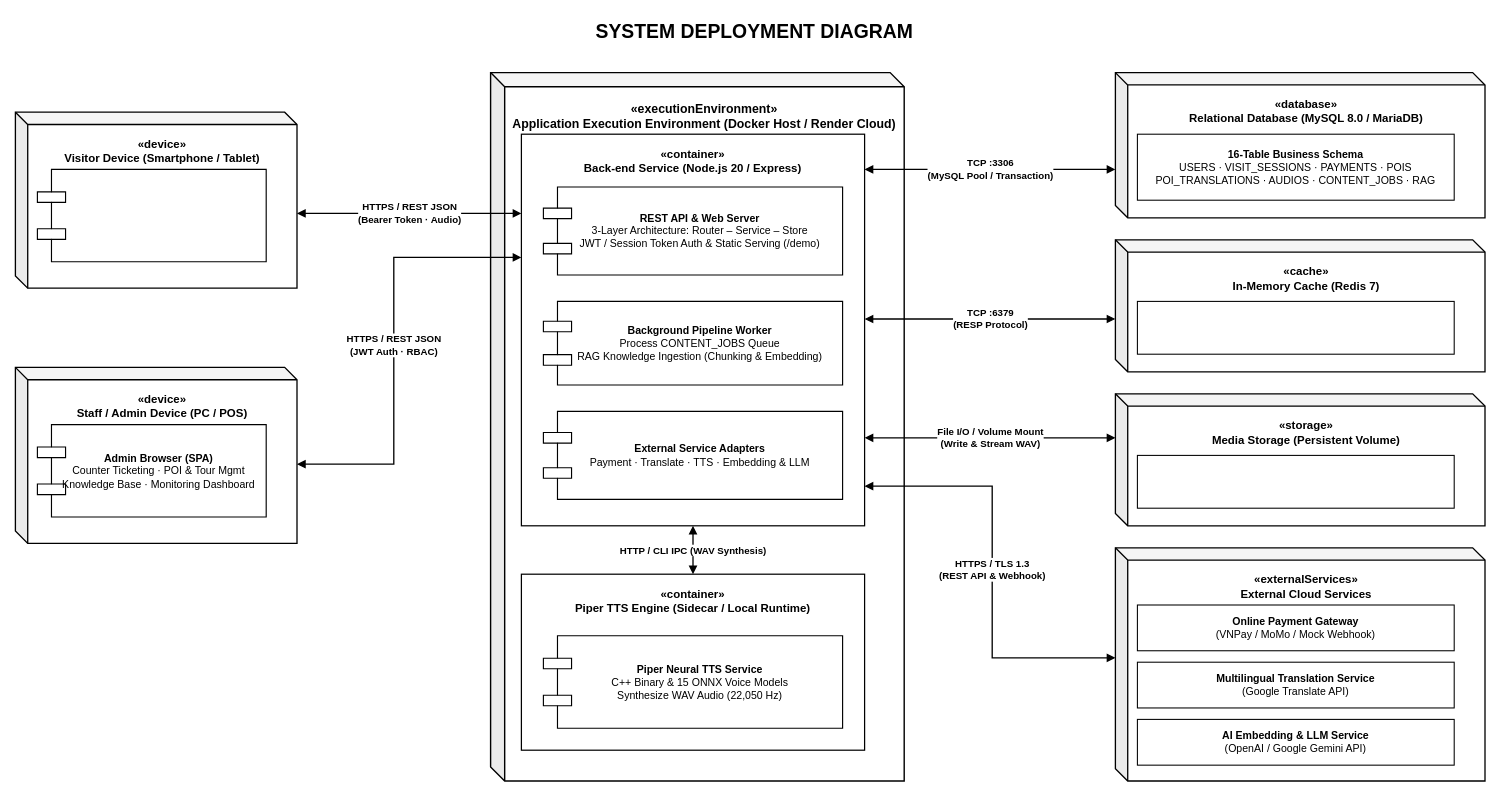
The diagram is 1509 pixels wide and 796 high, and some of its shapes have lost their labels. The shapes that lost their labels are listed below. From the top down, each one's centre as x and y in pixels, then its label:
At (x=151, y=215): "Web Browser (PWA) Map · GPS · Audio · Chatbot Local Cache (LocalStorage / Cache)".
At (x=1295, y=327): "Key-Value Ephemeral Store Claim Code (TTL) · Rate Limiting · Online Presence".
At (x=1295, y=481): "Static Media Directory Audio Guide Files (.wav) & POI Images".
